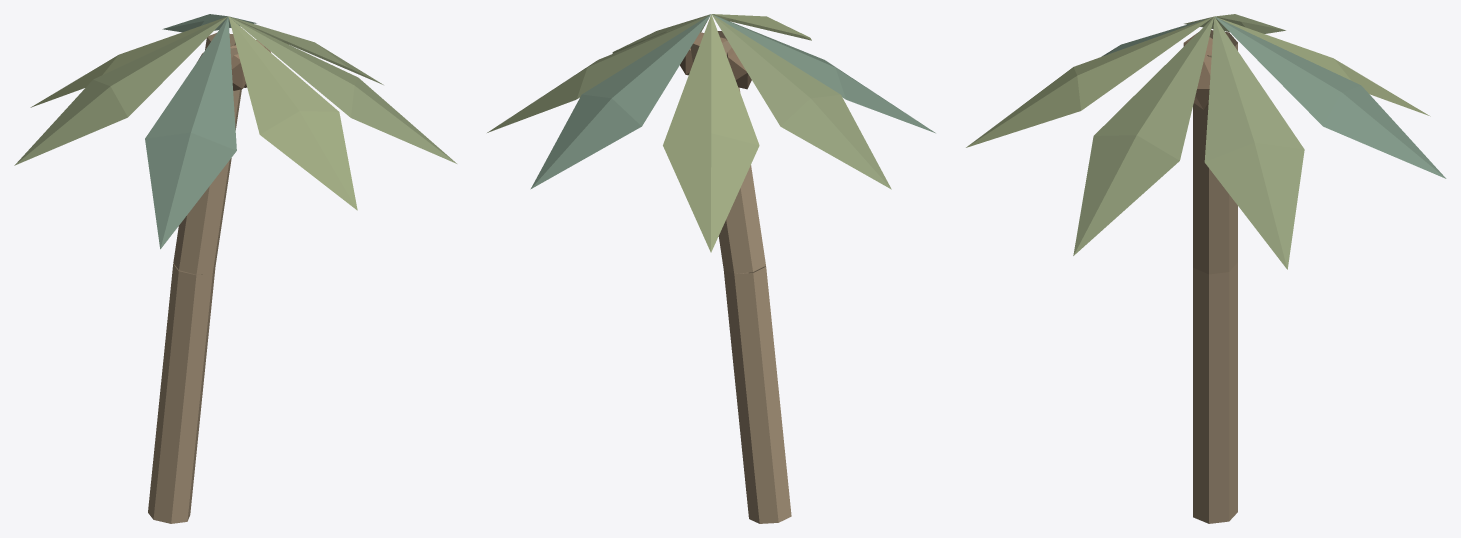
3 renders of one model, left to right at view 1: azimuth 30°, elevation 25°; view 2: azimuth 150°, elevation 25°; view 3: azimuth 270°, elevation 25°, orthographic. The views are drawn at different scales.
Parts seen in each view (by area): view 1: T16; view 2: T16; view 3: T16.
Part boxes in pixels (x1=…): T16: x1=14, y1=14, x2=456, y2=523; T16: x1=487, y1=14, x2=935, y2=523; T16: x1=966, y1=14, x2=1446, y2=523.
Bounding box in the file's own units: 1.84 × 2.21 × 1.82.
